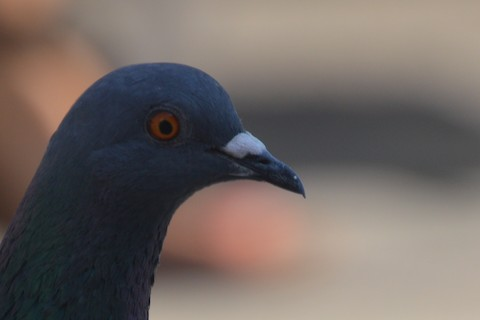pigeon: (4, 59, 307, 314)
